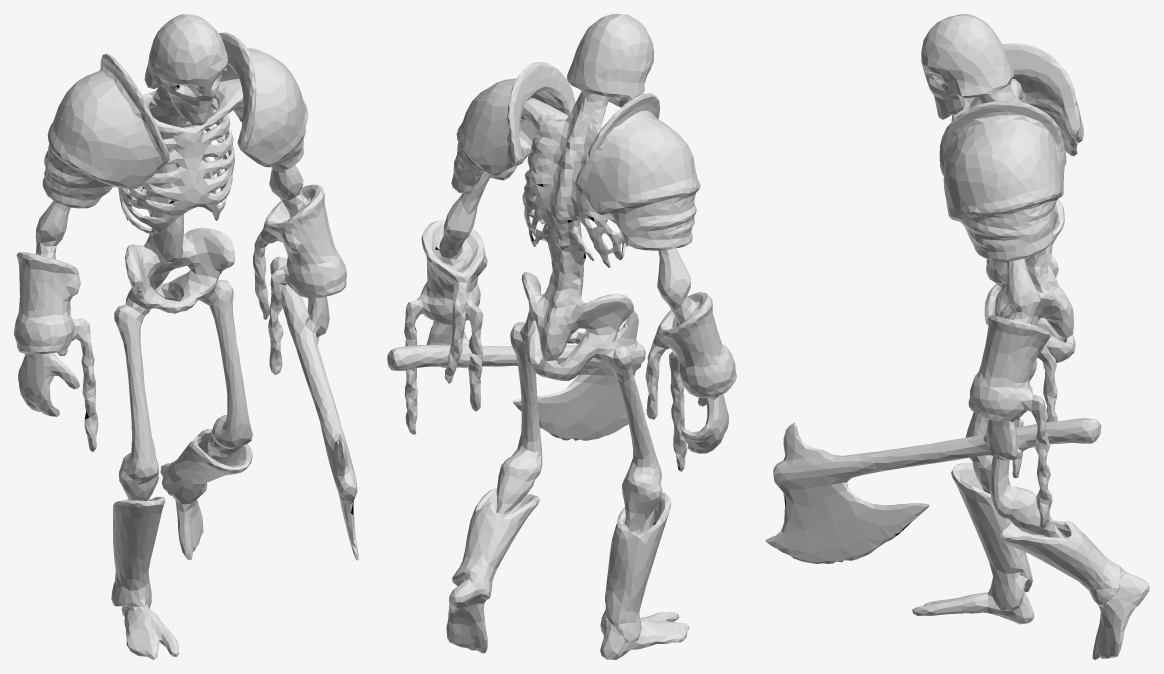
The model's file is enemy_skel_heavy2.glb.
The picture shows the model from 3 angles, left to right: view 1: azimuth 30°, elevation 25°; view 2: azimuth 150°, elevation 25°; view 3: azimuth 270°, elevation 25°; orthographic projection.
Visible parts, largest first — view 1: Low; view 2: Low; view 3: Low.
Part boxes in pixels (<box>): Low: <box>14,14,358,659</box>; Low: <box>387,14,736,659</box>; Low: <box>765,14,1149,659</box>.
Size of the model in its own units: 1.06 by 1.98 by 1.11.
Materials: 1 (1 with a texture image).
